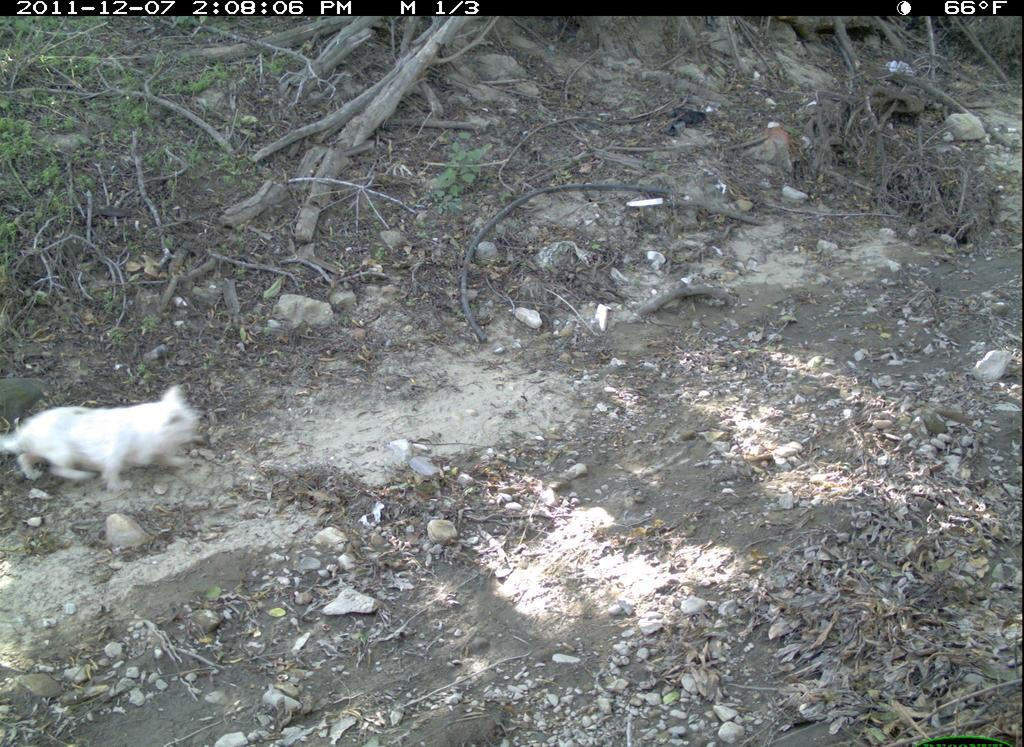dog: (2, 377, 218, 496)
